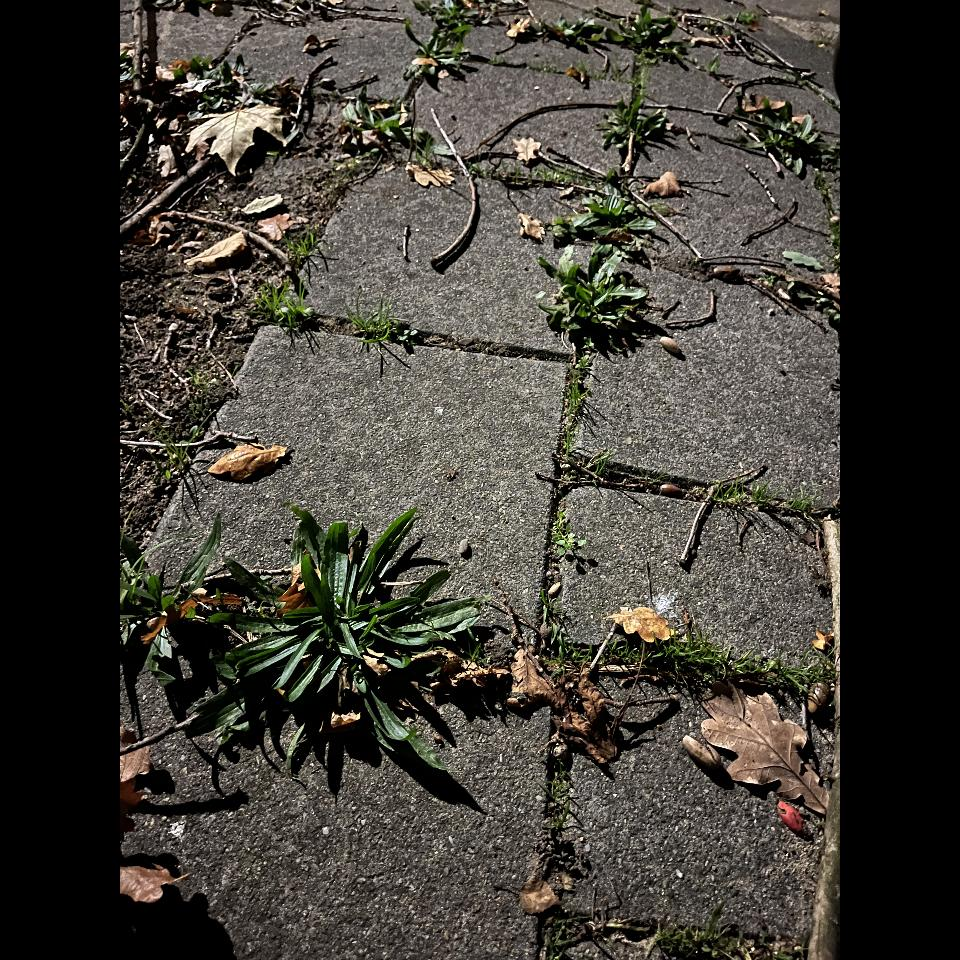weed: (127, 510, 490, 752), (552, 92, 680, 343), (533, 10, 674, 156), (547, 629, 821, 696), (259, 235, 322, 326), (744, 113, 833, 171), (419, 0, 469, 83), (350, 304, 406, 342)
